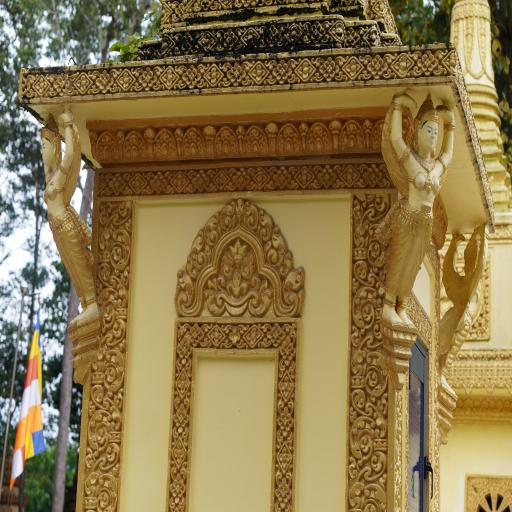hoa: (90, 66, 114, 96), (170, 436, 188, 474), (171, 402, 191, 434), (292, 57, 316, 83), (364, 54, 388, 80), (412, 52, 438, 76), (360, 161, 382, 189), (112, 68, 135, 94), (315, 164, 338, 190), (292, 162, 314, 189), (174, 367, 191, 401), (276, 404, 294, 436), (274, 476, 292, 508), (134, 66, 155, 92), (200, 62, 221, 88), (170, 474, 187, 506), (342, 53, 362, 80), (178, 64, 200, 88), (177, 332, 192, 367), (390, 52, 410, 78), (276, 442, 293, 472), (264, 325, 286, 348), (271, 60, 292, 84), (189, 168, 210, 192), (270, 164, 291, 188), (107, 172, 126, 198), (231, 165, 250, 191), (249, 166, 269, 190), (319, 55, 337, 81), (280, 335, 296, 364), (158, 66, 178, 89), (226, 64, 245, 88), (32, 73, 50, 98), (72, 68, 90, 93), (280, 371, 294, 403), (51, 72, 71, 94), (149, 170, 167, 194), (340, 164, 358, 188), (188, 320, 203, 348), (212, 166, 228, 192), (251, 60, 267, 85), (128, 172, 146, 194), (170, 170, 188, 192), (208, 324, 224, 348), (242, 326, 260, 346)
la: (351, 286, 391, 352), (350, 416, 388, 478), (348, 344, 388, 400), (350, 234, 393, 285), (84, 405, 120, 464), (93, 283, 127, 345), (88, 344, 122, 393), (349, 190, 394, 225), (86, 382, 124, 423), (100, 226, 131, 275), (84, 470, 118, 512), (349, 478, 387, 512), (335, 114, 369, 152), (177, 122, 208, 163), (240, 123, 271, 159), (120, 126, 149, 164), (271, 120, 303, 154), (303, 119, 335, 153), (151, 124, 179, 162), (92, 129, 122, 164), (210, 123, 239, 159), (264, 222, 286, 267), (104, 198, 133, 228), (175, 269, 195, 307), (92, 443, 120, 470), (256, 202, 272, 245), (190, 230, 207, 270), (282, 259, 302, 293), (203, 207, 218, 249), (348, 389, 371, 415), (241, 198, 257, 235), (220, 198, 236, 232), (277, 248, 293, 274)
than: (379, 92, 456, 392), (35, 99, 104, 390), (438, 206, 490, 411)
